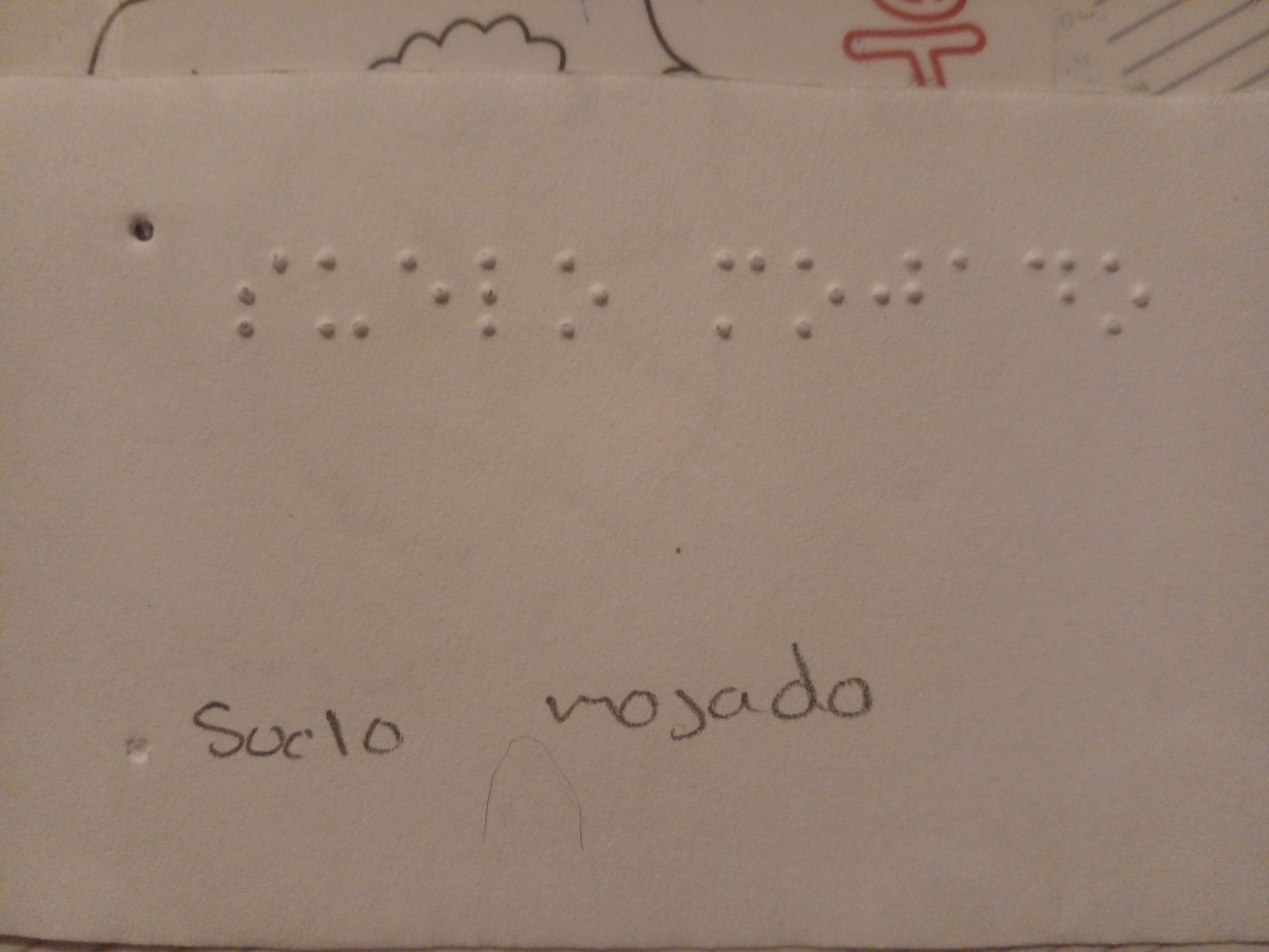a: (937, 243, 991, 290)
d: (1015, 240, 1095, 318)
e: (389, 254, 452, 342)
j: (857, 245, 936, 321)
l: (460, 245, 519, 352)
m: (702, 239, 771, 352)
o: (531, 245, 623, 349), (782, 246, 854, 339), (1087, 246, 1157, 339)
s: (225, 245, 293, 352)
u: (297, 251, 383, 346)
